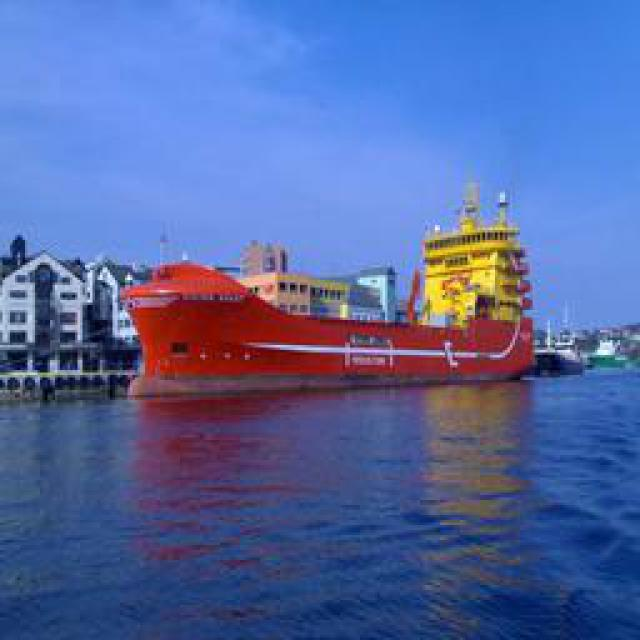Ship: (124, 246, 549, 384)
